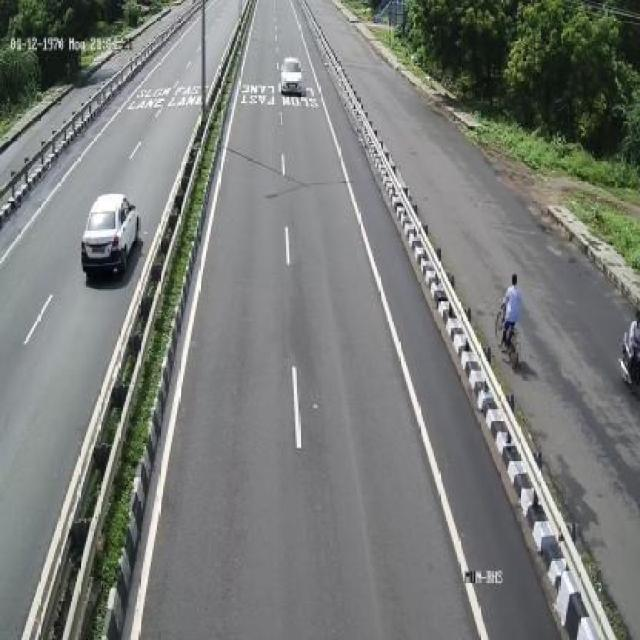car: (83, 188, 142, 283), (282, 52, 306, 98)
